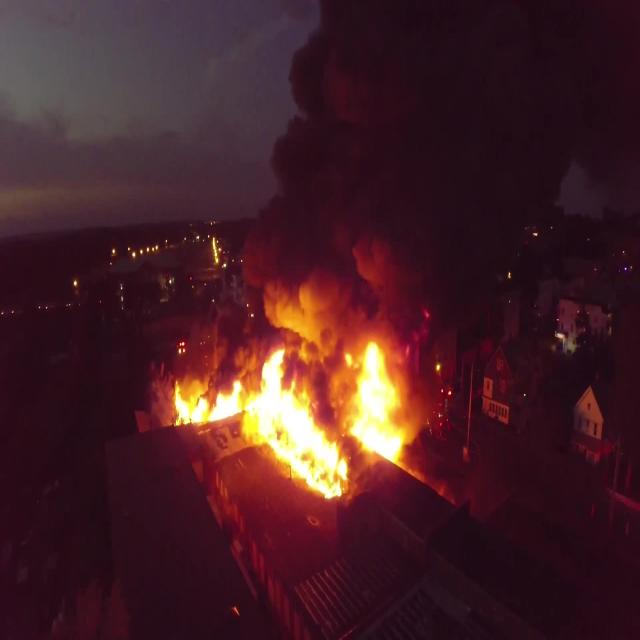Fire: (164, 304, 417, 502)
Smoke: (173, 0, 606, 479)
